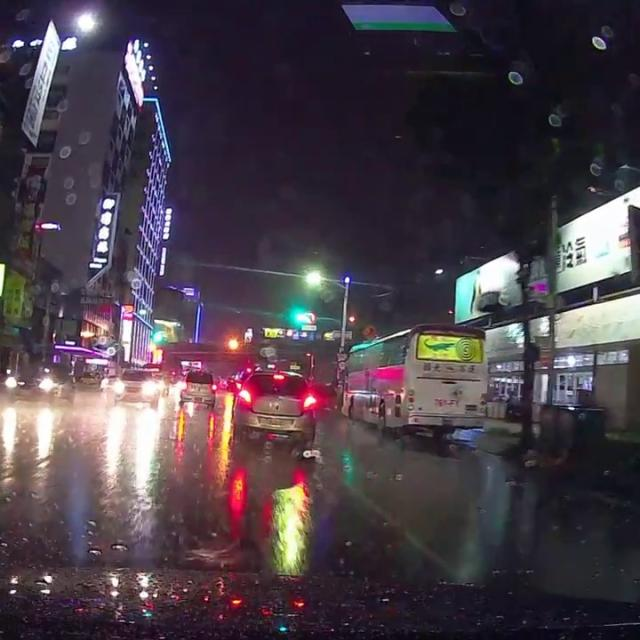Car: (227, 366, 315, 446), (0, 358, 79, 406), (112, 369, 162, 406), (177, 366, 217, 408)
